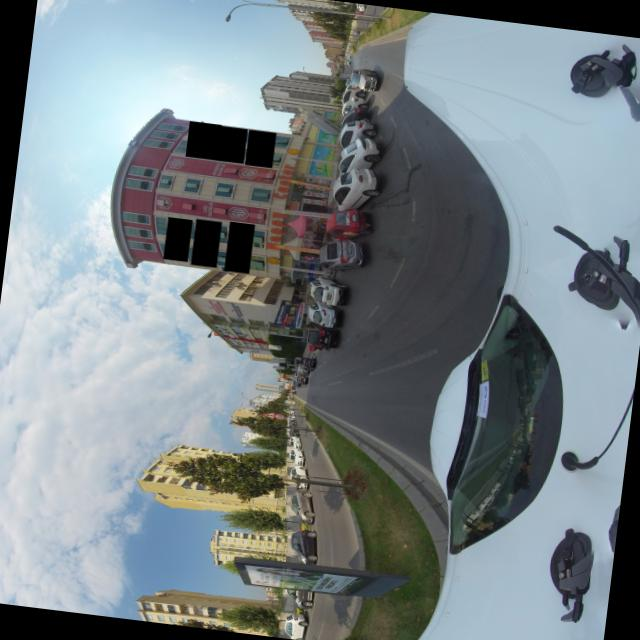SignStore: (185, 122, 221, 156), (213, 126, 247, 160), (245, 130, 276, 165), (230, 220, 249, 272), (196, 218, 216, 266), (168, 216, 187, 261)
